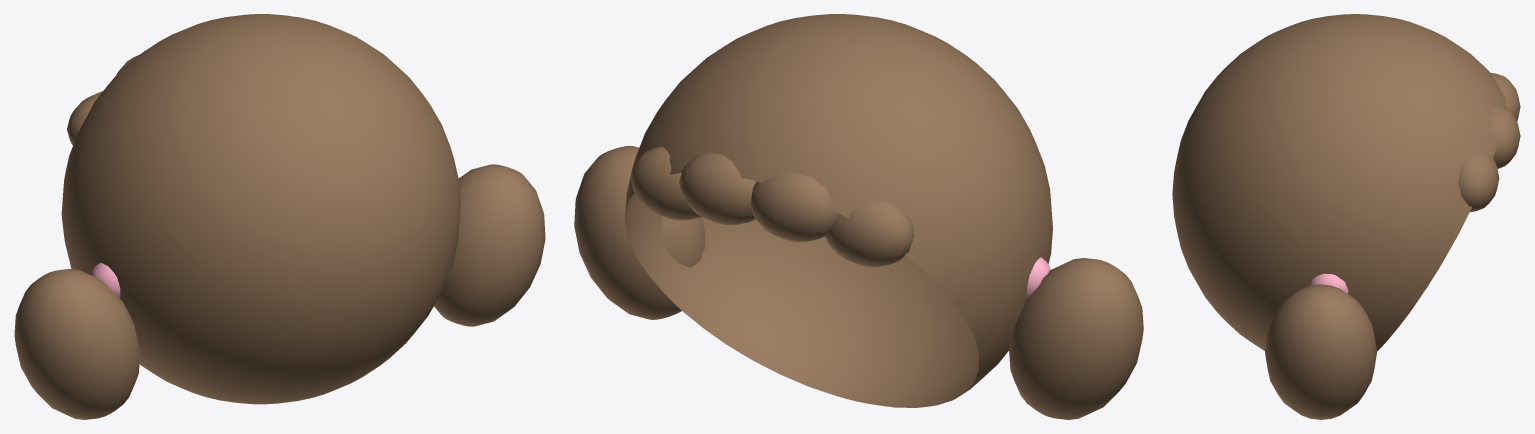
File: pigtails.glb
3 renders of one model, left to right at view 1: azimuth 30°, elevation 25°; view 2: azimuth 150°, elevation 25°; view 3: azimuth 270°, elevation 25°, orthographic. The views are drawn at different scales.
Parts seen in each view (by area): view 1: Head; view 2: Head; view 3: Head.
Part boxes in pixels (bbox=[...]): Head: bbox=[14, 14, 545, 419]; Head: bbox=[574, 14, 1143, 419]; Head: bbox=[1172, 14, 1520, 419].
Bounding box in the file's own units: 0.6034 × 0.3934 × 0.3829.
